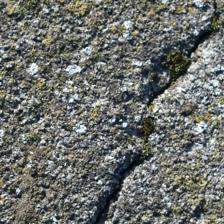Crack: (30, 26, 104, 126), (21, 85, 132, 137)
